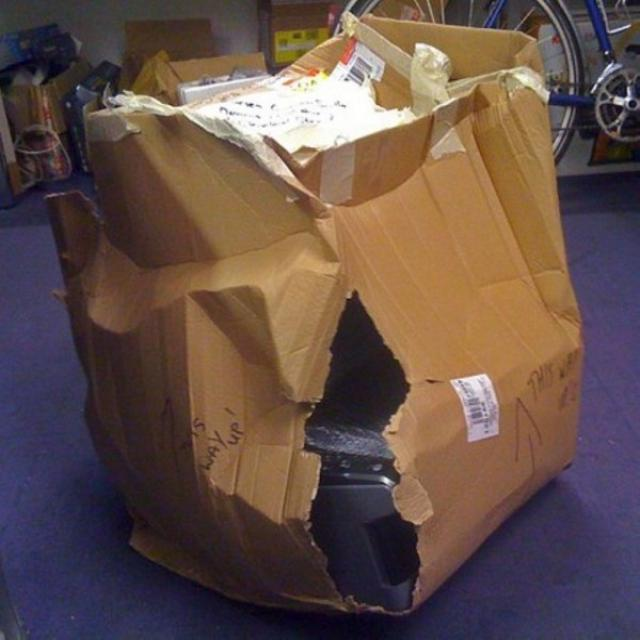damaged: (296, 291, 430, 618)
